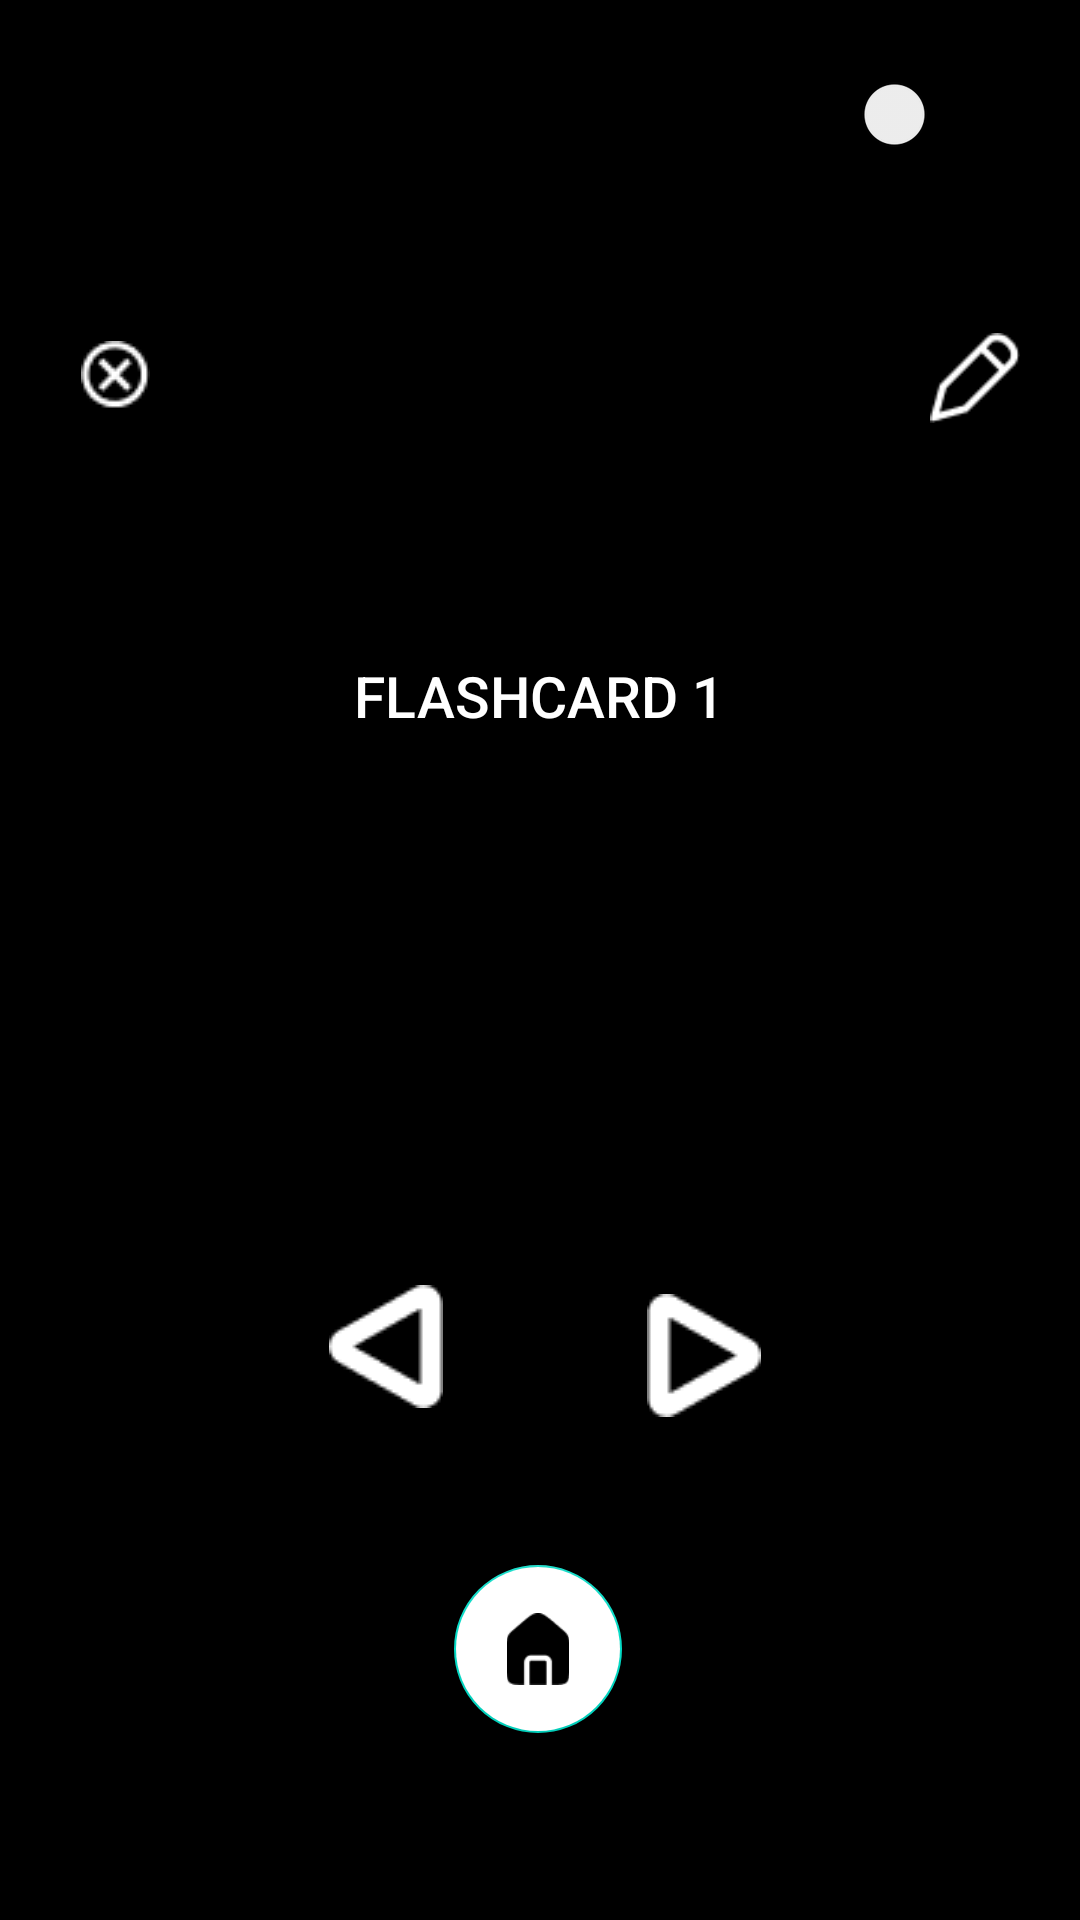

Locate icon controls on the screen. Image size 1080×1920, boxes as (x1, y1, x2, y2).
arrow left: (329, 1285, 443, 1408)
arrow right: (647, 1294, 761, 1417)
editicon: (930, 333, 1020, 423)
homebutton: (454, 1565, 622, 1733)
remove: (81, 341, 150, 408)
